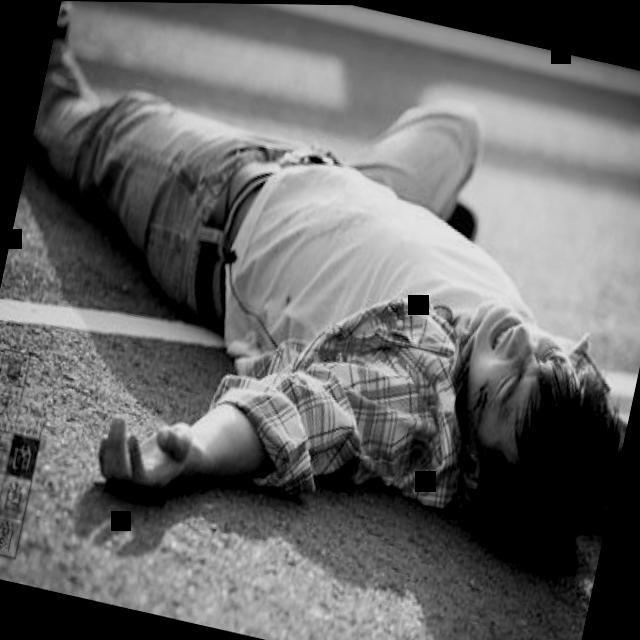Fall-Detected: (0, 0, 640, 627)
